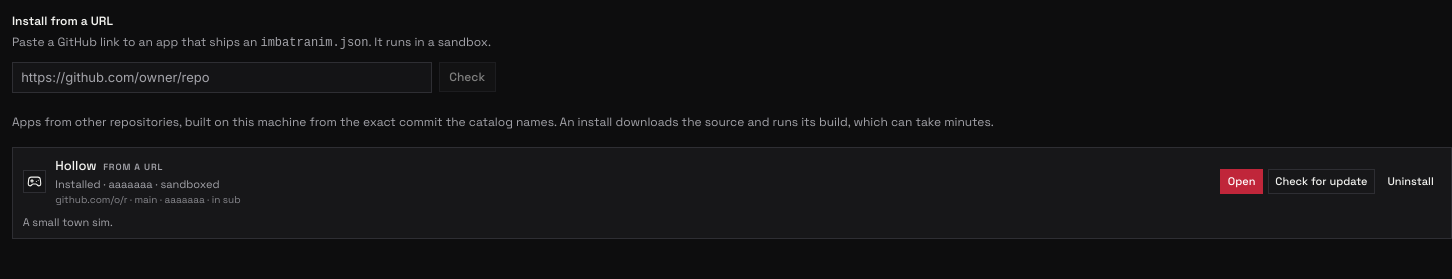
Scenario: MarketplaceSettings: Check for update on a URL app › refuses to offer a different app as this one’s update
Step 1. Click the button "Check for update" → point(1321, 182), box x1=1268 y1=169 x2=1375 y2=194
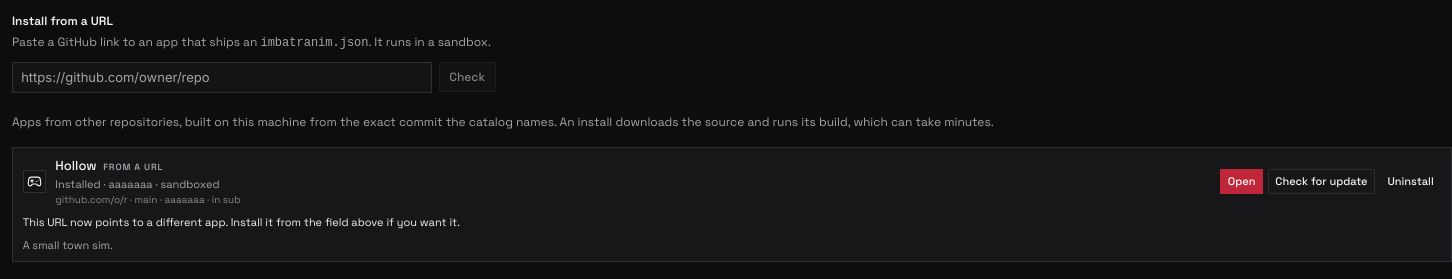
expect the text "This URL now points to a different app. Install it from the field above if you want it." is shown: met, box x1=23 y1=215 x2=460 y2=229
Step 2. Click the button "Check for update" → point(1321, 182), box x1=1268 y1=169 x2=1375 y2=194
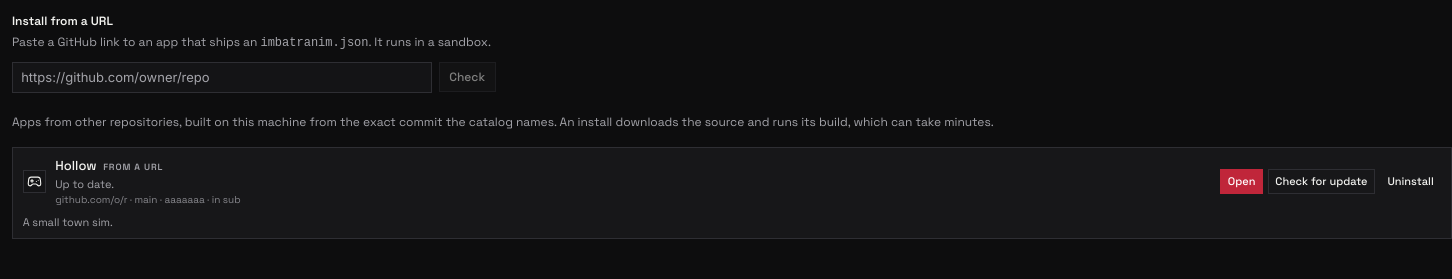
expect the text "This URL now points to a different app. Install it from the field above if you want it." is gone: met
expect the text "Up to date." is shown: met, box x1=55 y1=177 x2=114 y2=191
